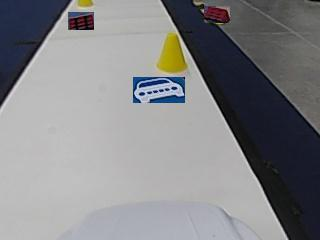cone: (156, 35, 187, 73)
